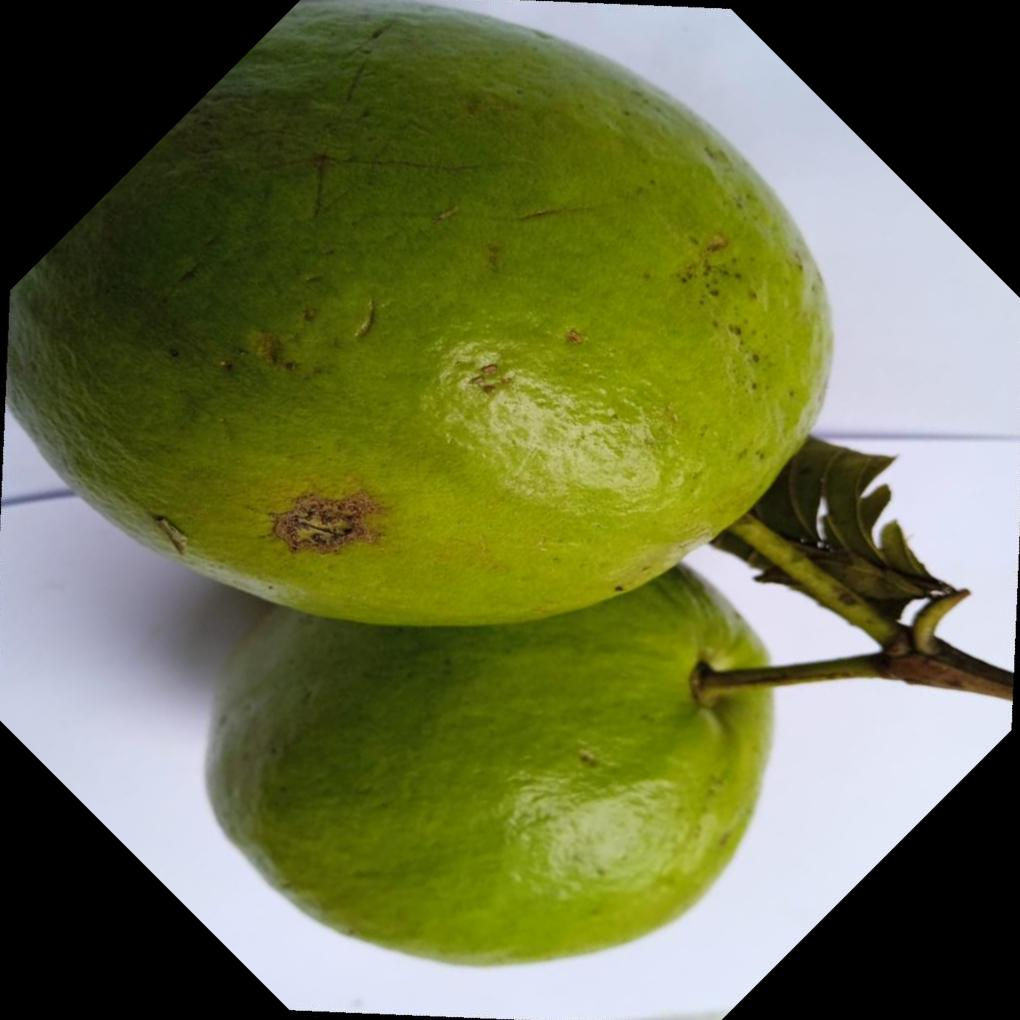FreshGuava: (3, 0, 835, 967)
